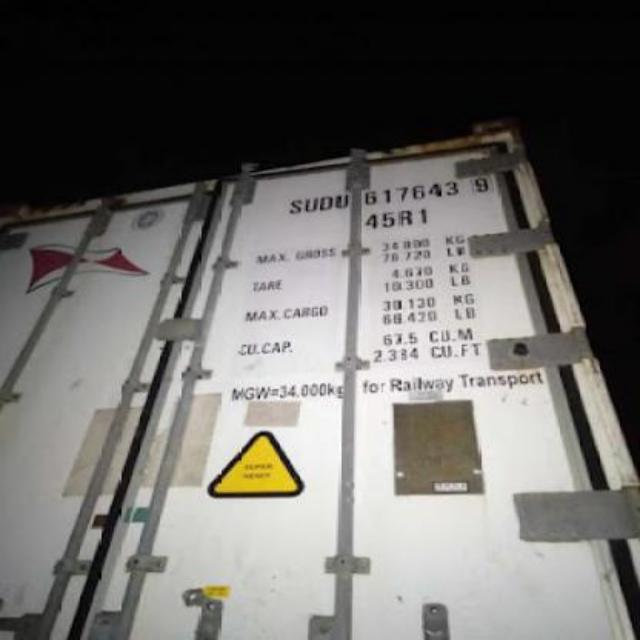1: (384, 183, 394, 207)
3: (438, 174, 468, 204)
4: (430, 181, 446, 205)
6: (410, 184, 426, 200), (368, 191, 378, 207)
7: (398, 181, 410, 205)
9: (474, 174, 496, 196)
D: (318, 191, 334, 209)
S: (286, 197, 302, 215)
U: (332, 190, 350, 212), (306, 192, 320, 216)
